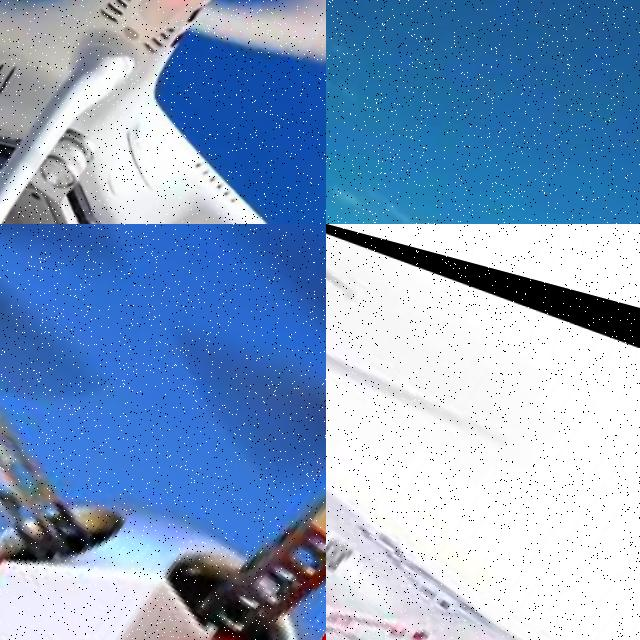drone: (0, 224, 326, 640), (326, 224, 640, 640), (0, 0, 326, 224)
